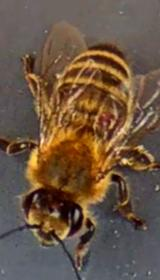varroa_mite: (90, 109, 116, 130)
